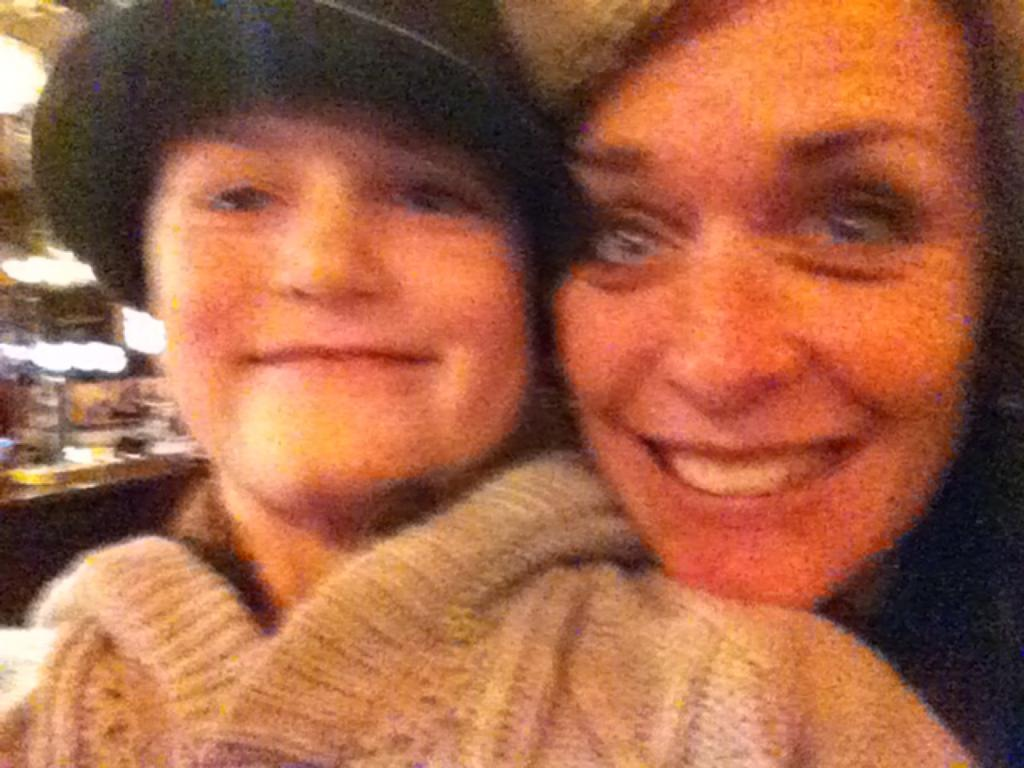face: (558, 94, 974, 612), (144, 104, 526, 504)
